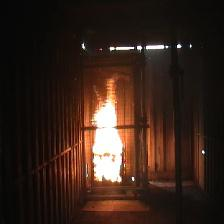fire: (85, 94, 129, 188)
